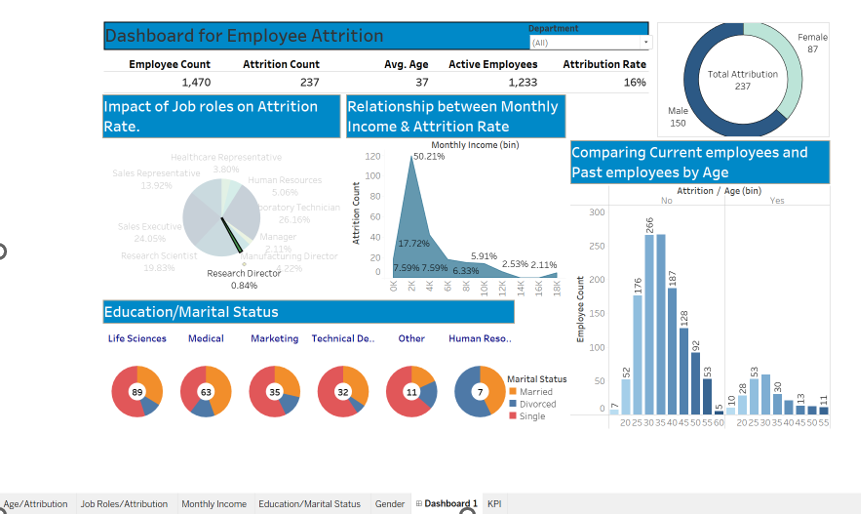

What the dashboard file says about the page in this screenshot:
{"tool":"tableau","page":{"name":"Dashboard 1","canvas":[1500,900],"ordinal":0},"visuals":[{"type":"worksheet","title":"KPI","mark":"Automatic","box":[5,2,1118,146]},{"type":"filter","title":"Job Roles/Attribution","param":"[federated.1uhue680b8o5de13n07nk0r4bdfb].[none:Department:nk]","box":[876,2,258,58]},{"type":"worksheet","title":"Job Roles/Attribution","mark":"Pie","box":[2,151,489,412]},{"type":"worksheet","title":"Monthly Income","mark":"Area","rows":["Calculation_62768933275865088"],"cols":["Monthly Income (bin)"],"box":[502,151,451,416]},{"type":"worksheet","title":"Age/Attribution","mark":"Automatic","rows":["EmployeeCount"],"cols":["Attrition","Age (bin)"],"box":[962,245,533,592]},{"type":"worksheet","title":"Education/Marital Status","mark":"Pie","rows":["Calculation_753508526814617600","Calculation_753508526814617600"],"cols":["EducationField","Education Field (copy)_753508526823768065"],"box":[3,572,845,284]},{"type":"legend","title":"Education/Marital Status","param":"[federated.1uhue680b8o5de13n07nk0r4bdfb].[none:MaritalStatus:nk]","box":[832,721,132,134]}]}

Visuals, with their boxes on the page's 1500x900 design canvas (x1, y1, x2, y2). These are canvas units, not pixel positions in the 861x514 screenshot, which may show the page scaled, cropped or inside an application window:
"KPI" worksheet: box(5, 2, 1123, 148)
"Job Roles/Attribution" filter: box(876, 2, 1134, 60)
"Job Roles/Attribution" worksheet (Pie marks): box(2, 151, 491, 563)
"Monthly Income" worksheet (Area marks): box(502, 151, 953, 567)
"Age/Attribution" worksheet: box(962, 245, 1495, 837)
"Education/Marital Status" worksheet (Pie marks): box(3, 572, 848, 856)
"Education/Marital Status" legend: box(832, 721, 964, 855)
